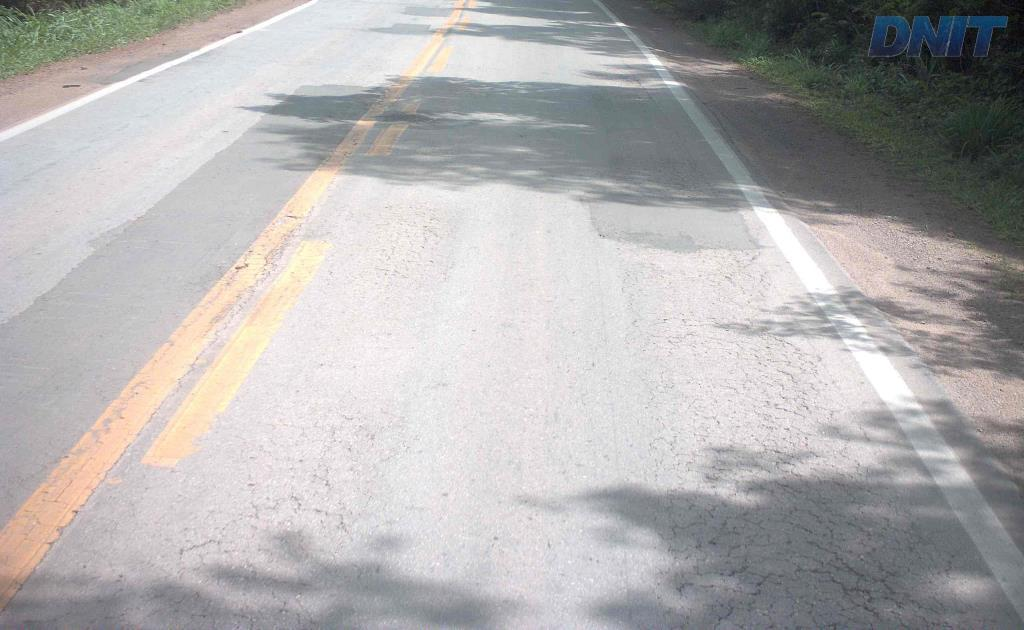crack: (830, 563, 882, 622), (215, 523, 252, 554)
